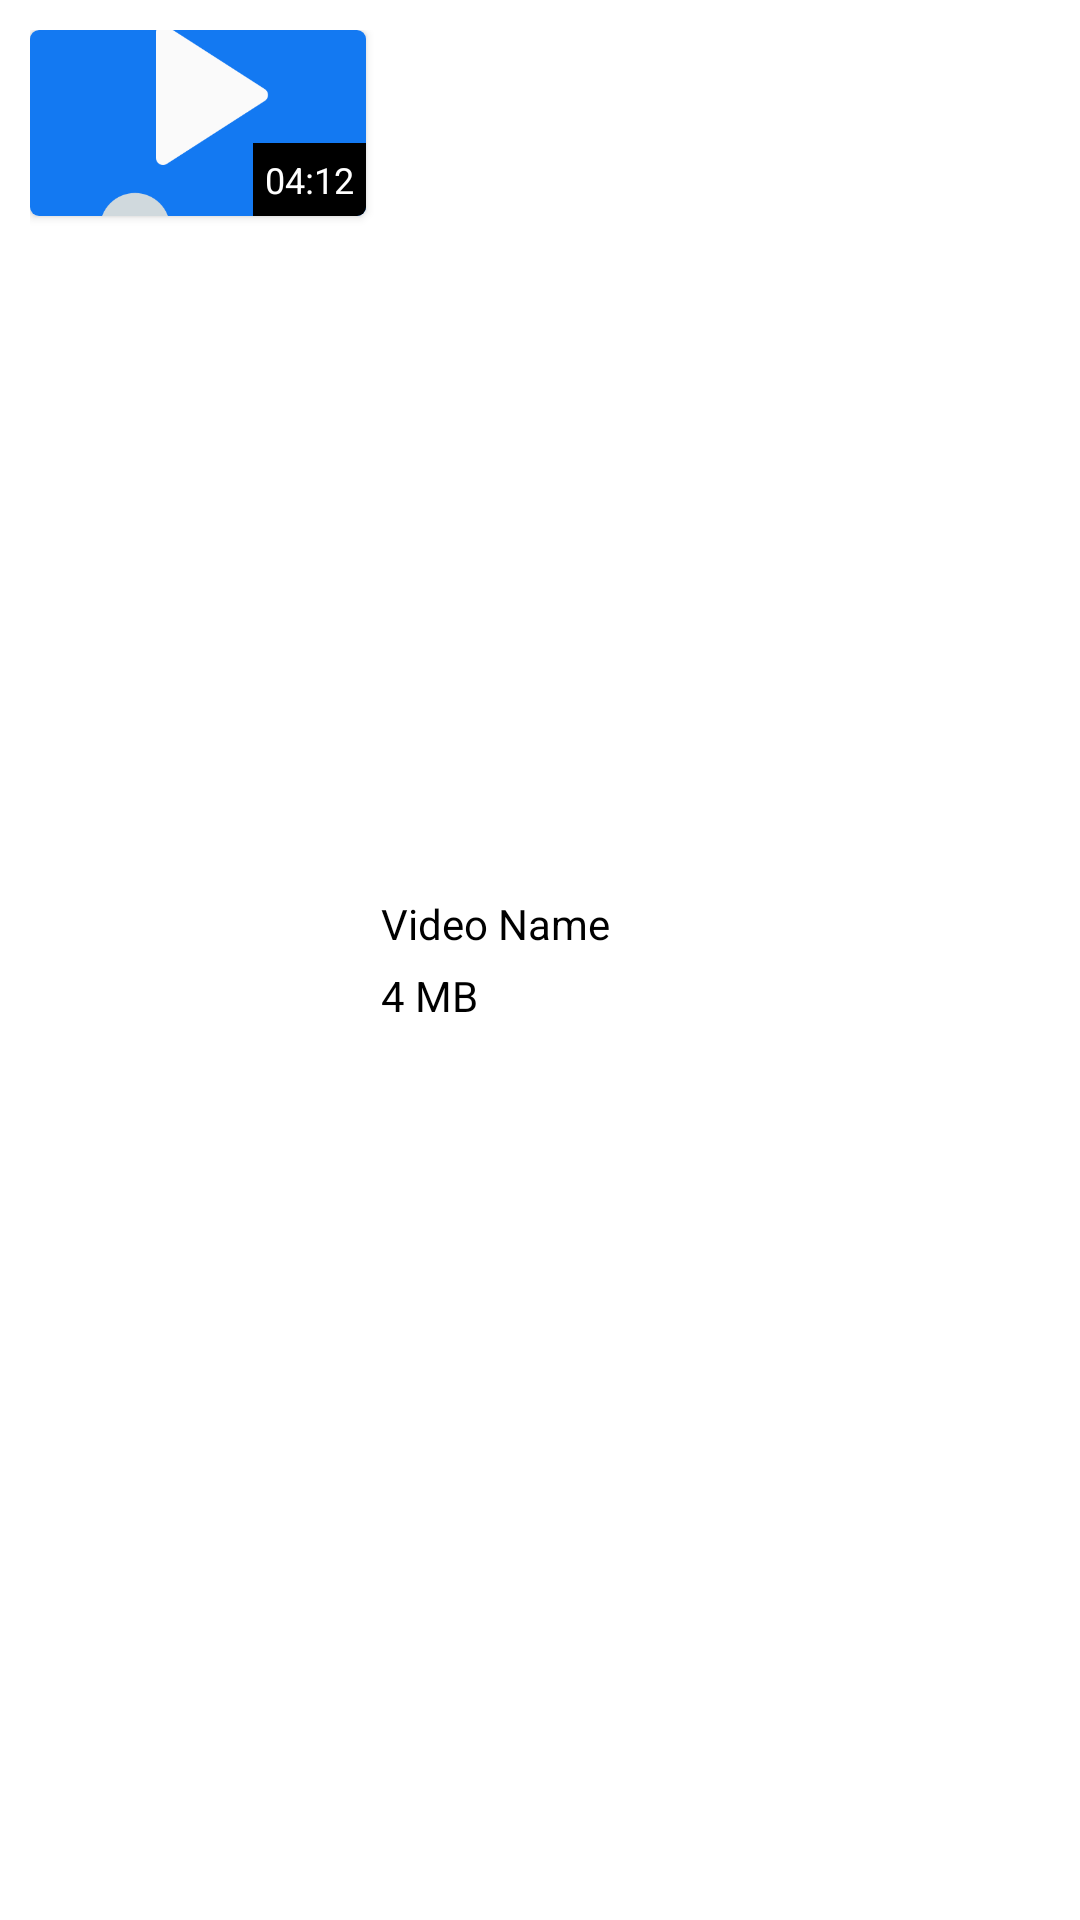

Where to tap for icons on this 1080px x 1920px app screen, as [x,y]:
vpicon: [198,123]
